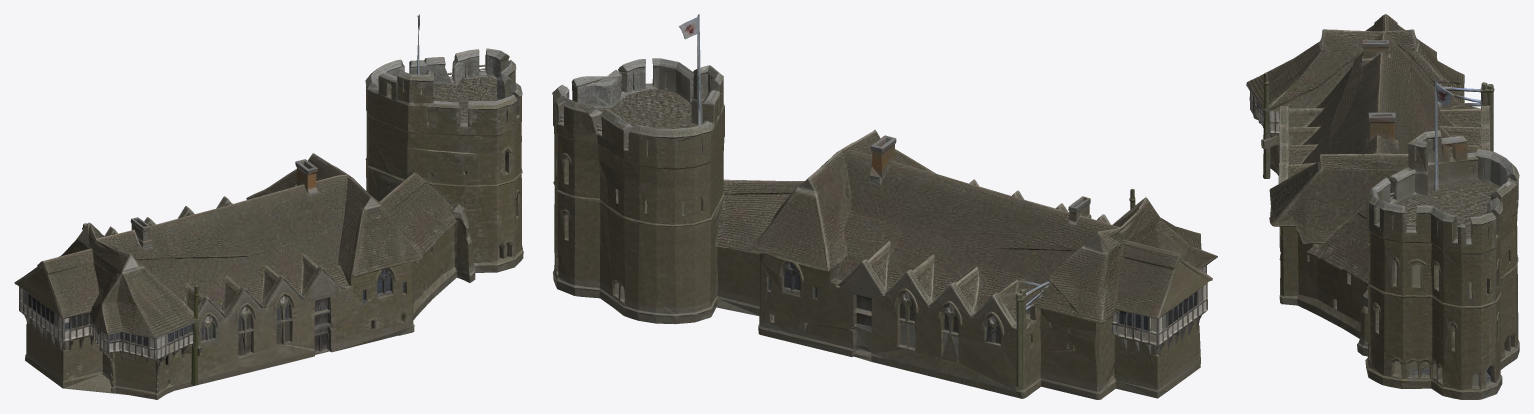
The model's file is manor_hall_stokesay_a.meshy.reduced.glb.
The picture shows the model from 3 angles, left to right: view 1: azimuth 30°, elevation 25°; view 2: azimuth 150°, elevation 25°; view 3: azimuth 270°, elevation 25°; orthographic projection. The views are drawn at different scales.
Size of the model in its own units: 1.9 by 0.8678 by 0.8222.
Materials: 1 (1 with a texture image).
